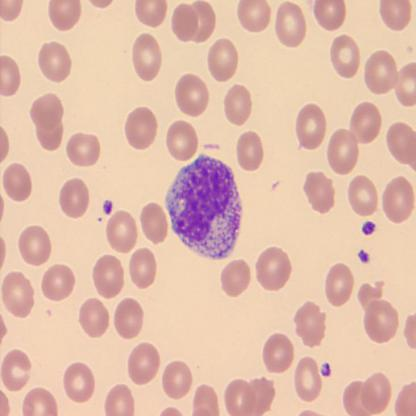Metamyelocyte: (163, 149, 243, 263)
